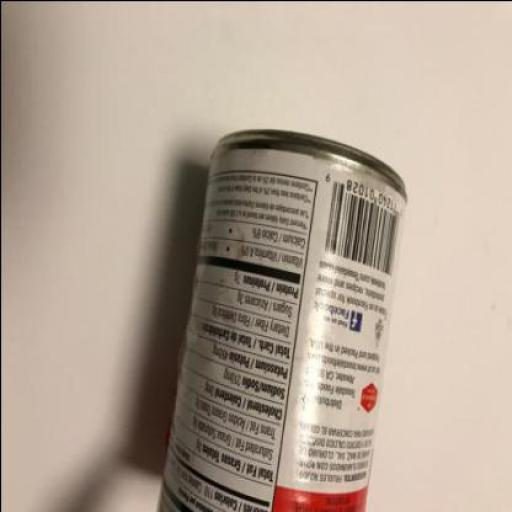metal: (152, 129, 408, 511)
